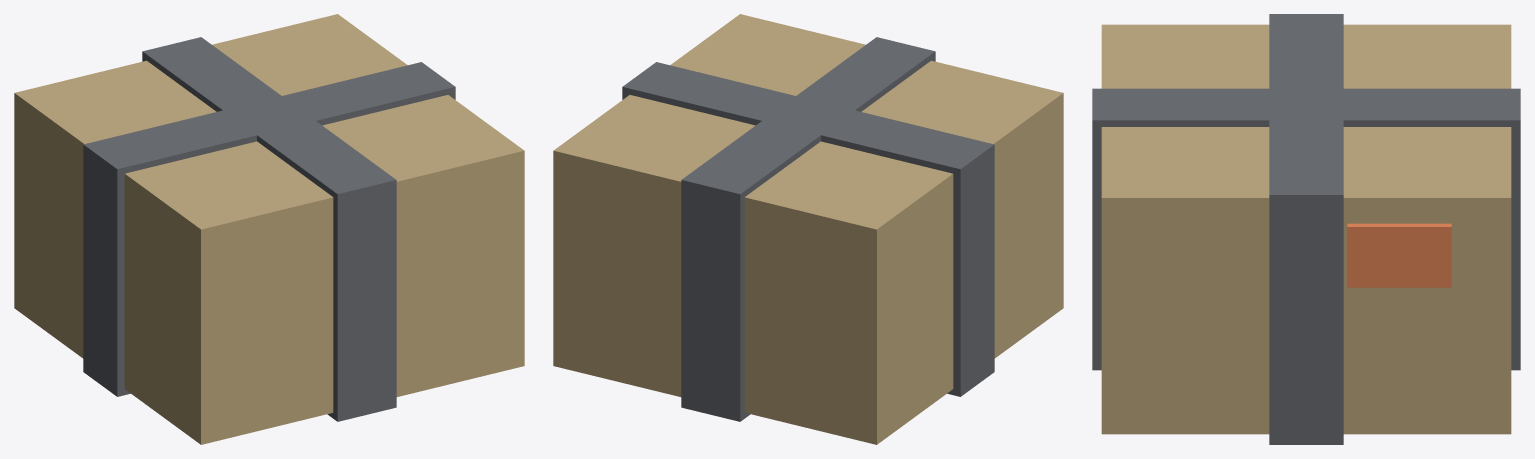
Rendered from payload.glb.
3 views of the same model, side by side, from view 1: azimuth 30°, elevation 25°; view 2: azimuth 150°, elevation 25°; view 3: azimuth 270°, elevation 25° (orthographic). The views are drawn at different scales.
Visible parts, largest first — view 1: payload; view 2: payload; view 3: payload.
Boxes of the visible parts, <box> form: payload: <box>14,14,524,444</box>; payload: <box>553,14,1063,444</box>; payload: <box>1092,14,1520,444</box>.
Size of the model in its own units: 0.236 by 0.148 by 0.23.
